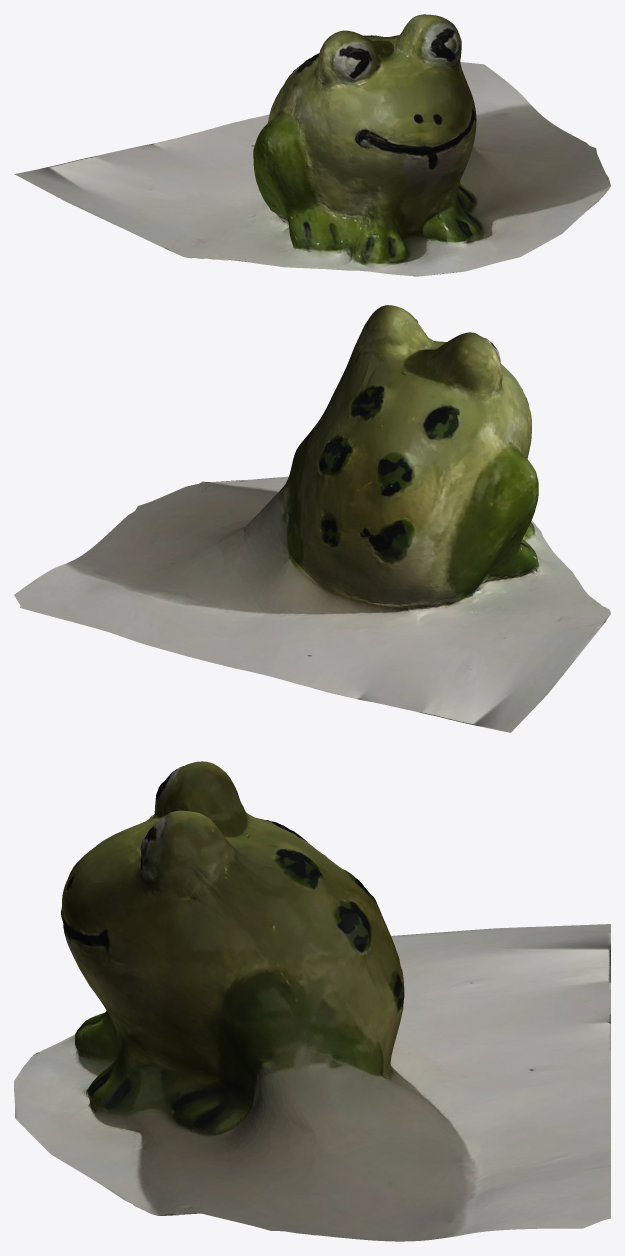
Rendered from chud.glb.
The picture shows the model from 3 angles, top to bottom: view 1: azimuth 30°, elevation 25°; view 2: azimuth 150°, elevation 25°; view 3: azimuth 270°, elevation 25°; orthographic projection. The views are drawn at different scales.
Bounding box in the file's own units: 1 × 0.4441 × 0.8134.
1 material, 1 textured.
